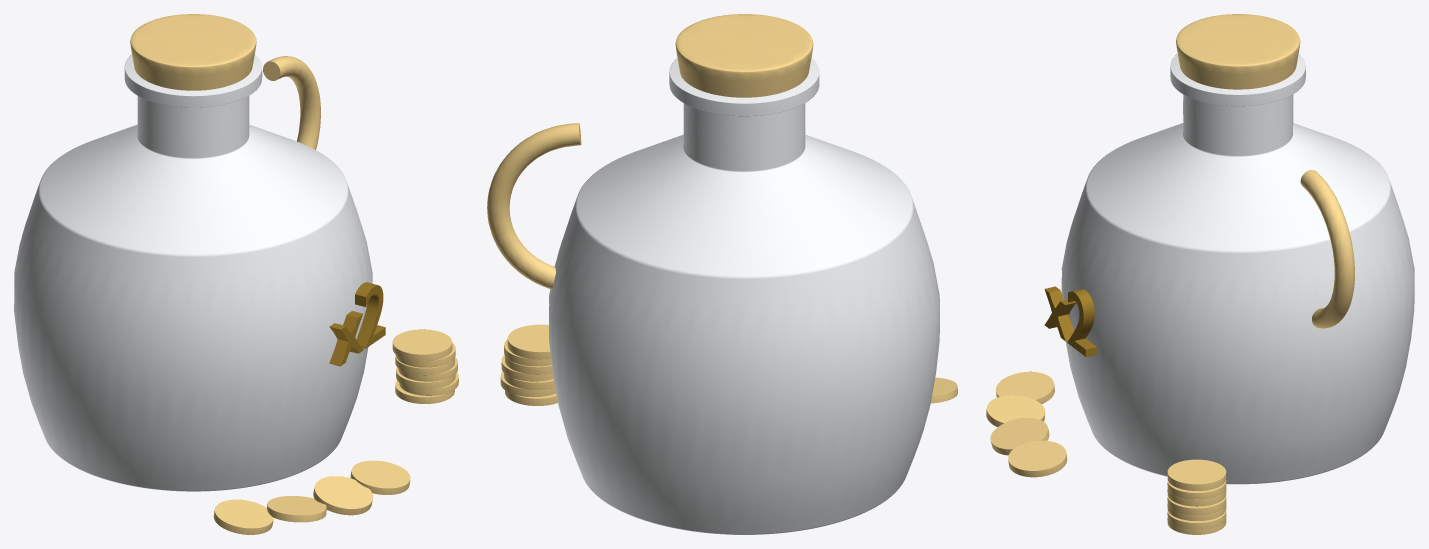
File: coinpotion.glb
The picture shows the model from 3 angles, left to right: view 1: azimuth 30°, elevation 25°; view 2: azimuth 150°, elevation 25°; view 3: azimuth 270°, elevation 25°; orthographic projection. The views are drawn at different scales.
Visible parts, largest first — view 1: CoinPotion_Glass, CoinPotion_Cork, CoinPotion_LabelText, CoinPotion_Handle, CoinPotion_Coin.009, CoinPotion_Coin.007, CoinPotion_Coin.006, CoinPotion_Coin.010, CoinPotion_Coin.008, CoinPotion_Coin, CoinPotion_Coin.002; view 2: CoinPotion_Glass, CoinPotion_Cork, CoinPotion_Handle, CoinPotion_Coin.006, CoinPotion_Coin.007; view 3: CoinPotion_Glass, CoinPotion_Cork, CoinPotion_Handle, CoinPotion_LabelText, CoinPotion_Coin.010, CoinPotion_Coin.006, CoinPotion_Coin.009, CoinPotion_Coin.008, CoinPotion_Coin.007, CoinPotion_Coin.005, CoinPotion_Coin.001, CoinPotion_Coin.003.
Boxes of the visible parts, x1,y1,x2,y2 form: CoinPotion_Glass: (14,54,372,491); CoinPotion_Cork: (130,14,256,90); CoinPotion_LabelText: (329,282,385,366); CoinPotion_Handle: (263,56,320,149); CoinPotion_Coin.009: (313,476,373,515); CoinPotion_Coin.007: (213,499,273,534); CoinPotion_Coin.006: (392,329,452,361); CoinPotion_Coin.010: (350,460,410,494); CoinPotion_Coin.008: (267,496,326,522); CoinPotion_Coin: (395,380,454,403); CoinPotion_Coin.002: (396,367,455,389); CoinPotion_Glass: (549,58,939,534); CoinPotion_Cork: (675,14,813,97); CoinPotion_Handle: (487,123,581,289); CoinPotion_Coin.006: (507,324,550,359); CoinPotion_Coin.007: (931,377,957,403); CoinPotion_Glass: (1061,54,1414,484); CoinPotion_Cork: (1176,14,1300,89); CoinPotion_Handle: (1300,170,1354,328); CoinPotion_LabelText: (1044,286,1096,356); CoinPotion_Coin.010: (1008,440,1067,477); CoinPotion_Coin.006: (1167,459,1226,490); CoinPotion_Coin.009: (990,418,1049,455); CoinPotion_Coin.008: (986,395,1045,427); CoinPotion_Coin.007: (996,371,1054,404); CoinPotion_Coin.005: (1167,480,1226,499); CoinPotion_Coin.001: (1167,510,1226,529); CoinPotion_Coin.003: (1167,495,1226,514).
Bounding box in the file's own units: 2.12 × 2.02 × 2.02.
